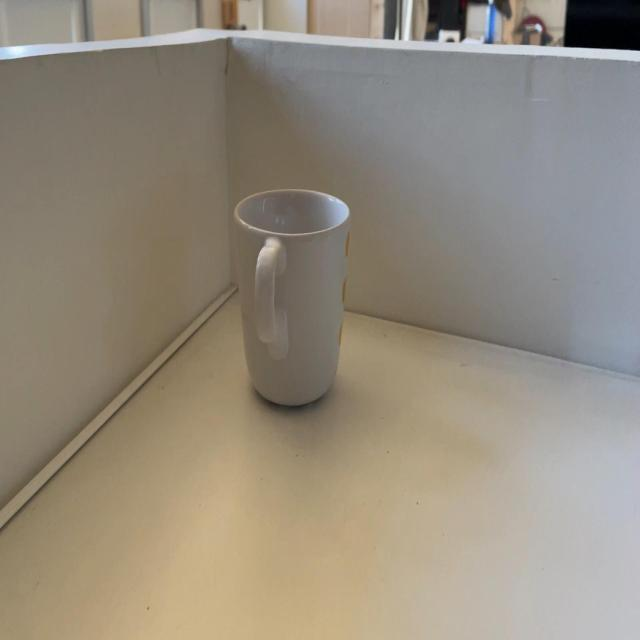cup: (233, 188, 351, 408)
